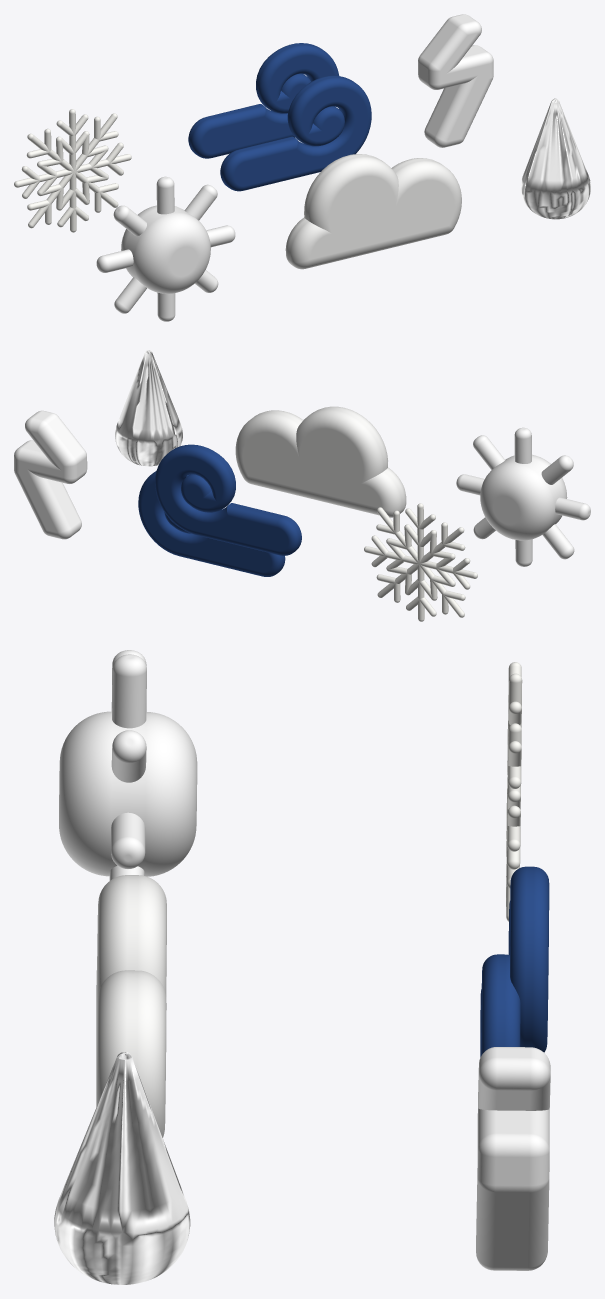
File: wea.glb
The picture shows the model from 3 angles, top to bottom: view 1: azimuth 30°, elevation 25°; view 2: azimuth 150°, elevation 25°; view 3: azimuth 270°, elevation 25°; orthographic projection. The views are drawn at different scales.
Visible parts, largest first — view 1: Body19, Body6, Body10, Body17, Body16, Body5; view 2: Body6, Body19, Body10, Body17, Body16, Body5; view 3: Body10, Body5, Body16, Body6, Body19, Body17.
Boxes of the visible parts, box(x1,y1,x2,y2) form: Body19: box(188, 43, 371, 191); Body6: box(285, 154, 461, 269); Body10: box(96, 176, 235, 321); Body17: box(14, 109, 131, 232); Body16: box(418, 14, 493, 147); Body5: box(520, 98, 590, 219); Body6: box(235, 406, 406, 517); Body19: box(138, 444, 301, 576); Body10: box(456, 427, 590, 566); Body17: box(364, 503, 477, 621); Body16: box(14, 410, 87, 539); Body5: box(115, 350, 182, 466); Body10: box(59, 650, 197, 880); Body5: box(54, 1052, 190, 1284); Body16: box(476, 1047, 550, 1270); Body6: box(96, 875, 166, 1137); Body19: box(480, 866, 549, 1057); Body17: box(506, 662, 522, 921).
Bounding box in the file's own units: 0.159 × 0.0441 × 0.0722.
